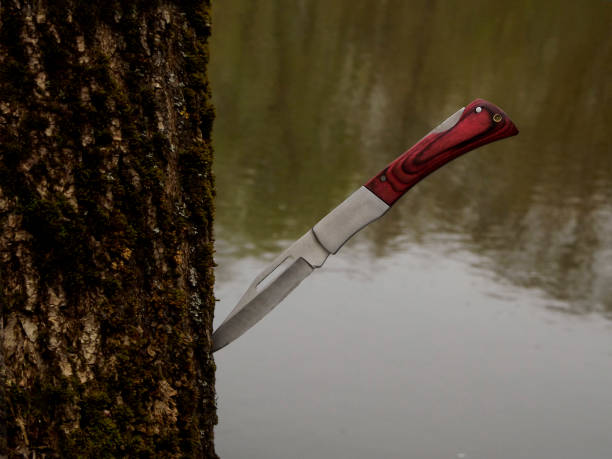knife: (212, 96, 523, 353)
